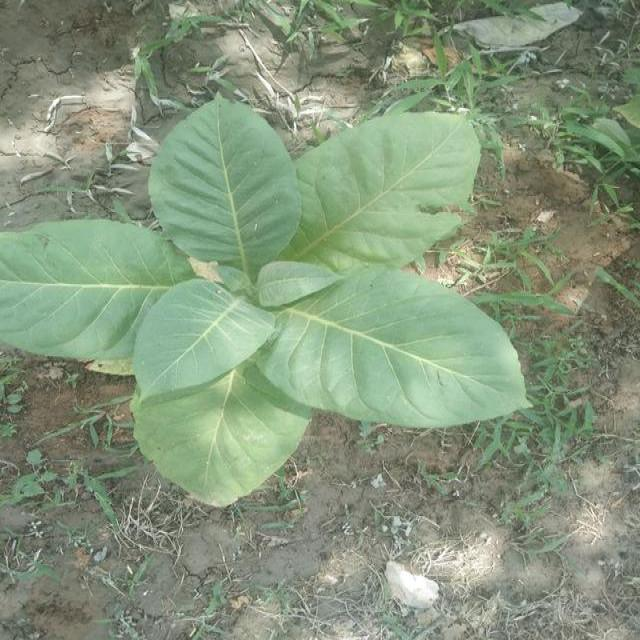crop: (0, 87, 527, 511)
